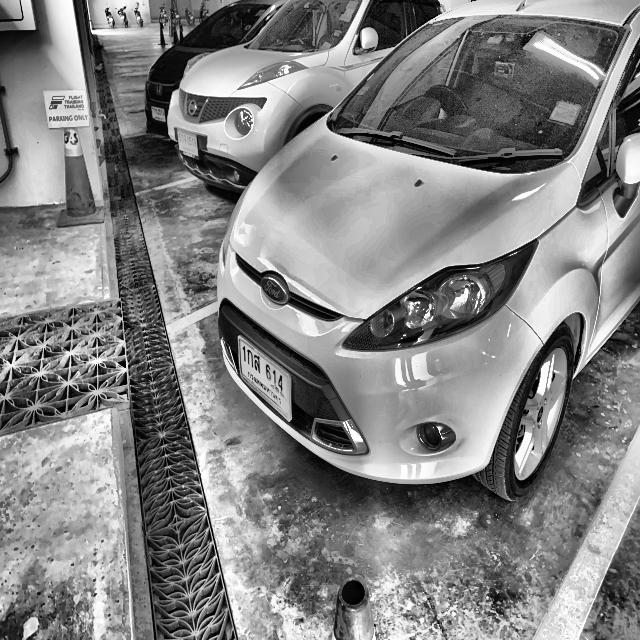license-plate: (232, 331, 295, 428), (174, 123, 202, 160), (150, 102, 167, 120)
